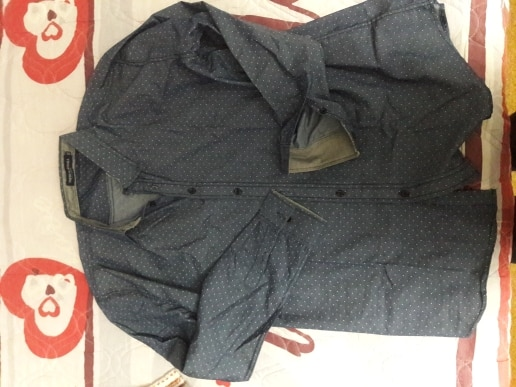shirts: (62, 6, 491, 377)
